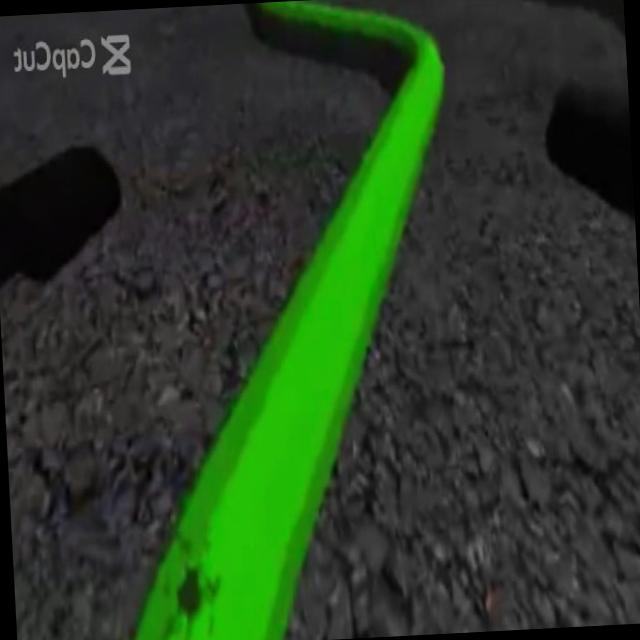gas: (94, 69, 473, 640)
